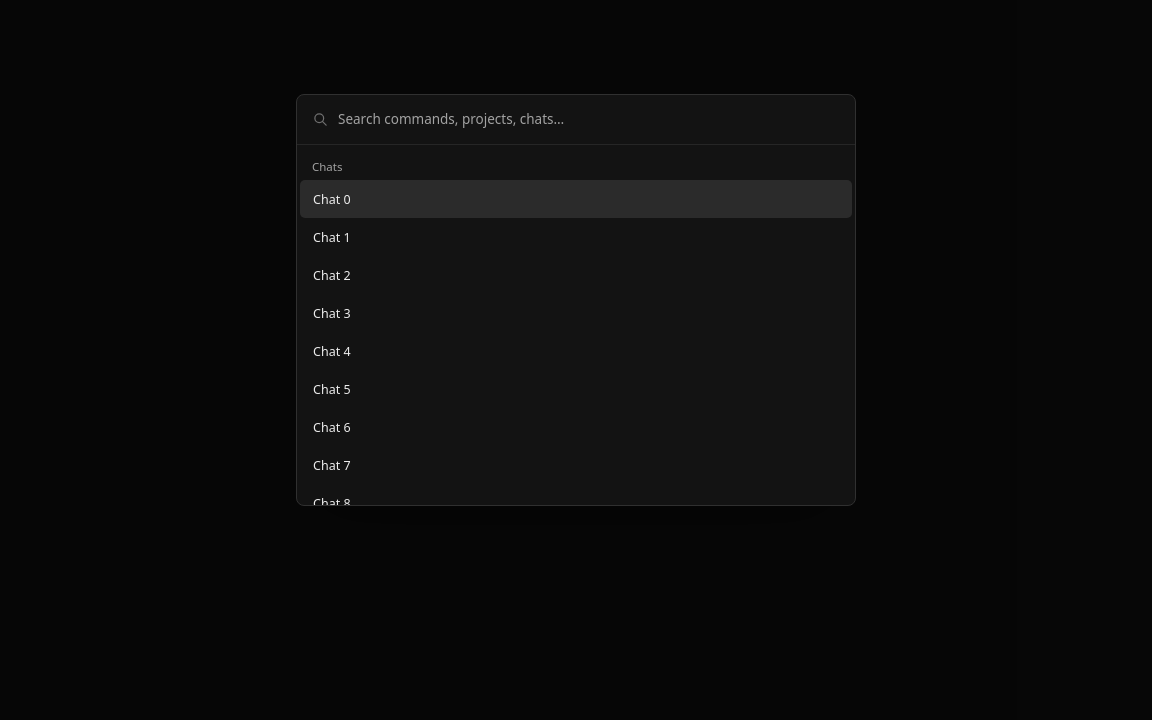
Test case: CommandPalette › bounds a large initial result list and still finds commands beyond it
In the field labelled "Search commands": (588, 119) [338, 109, 839, 130], type "Chat 9999"
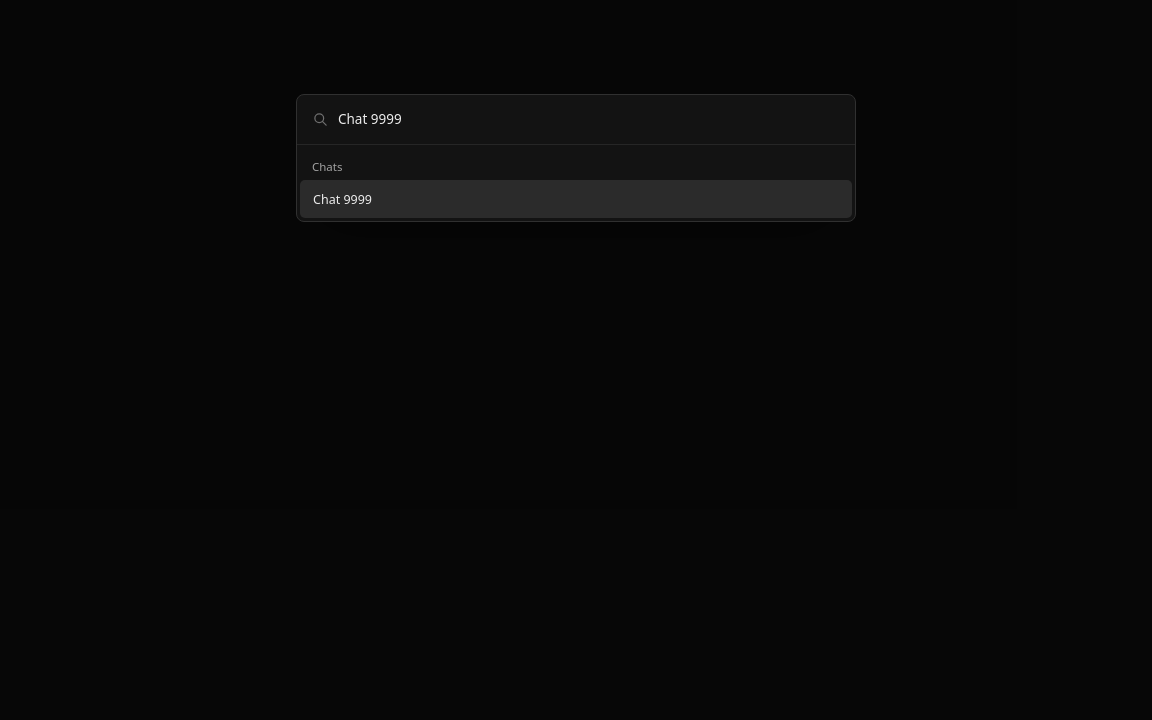
Check: the number of options is 1, box [300, 180, 852, 218]
Check: the text "Chat 9999" is shown, box [313, 191, 372, 208]
